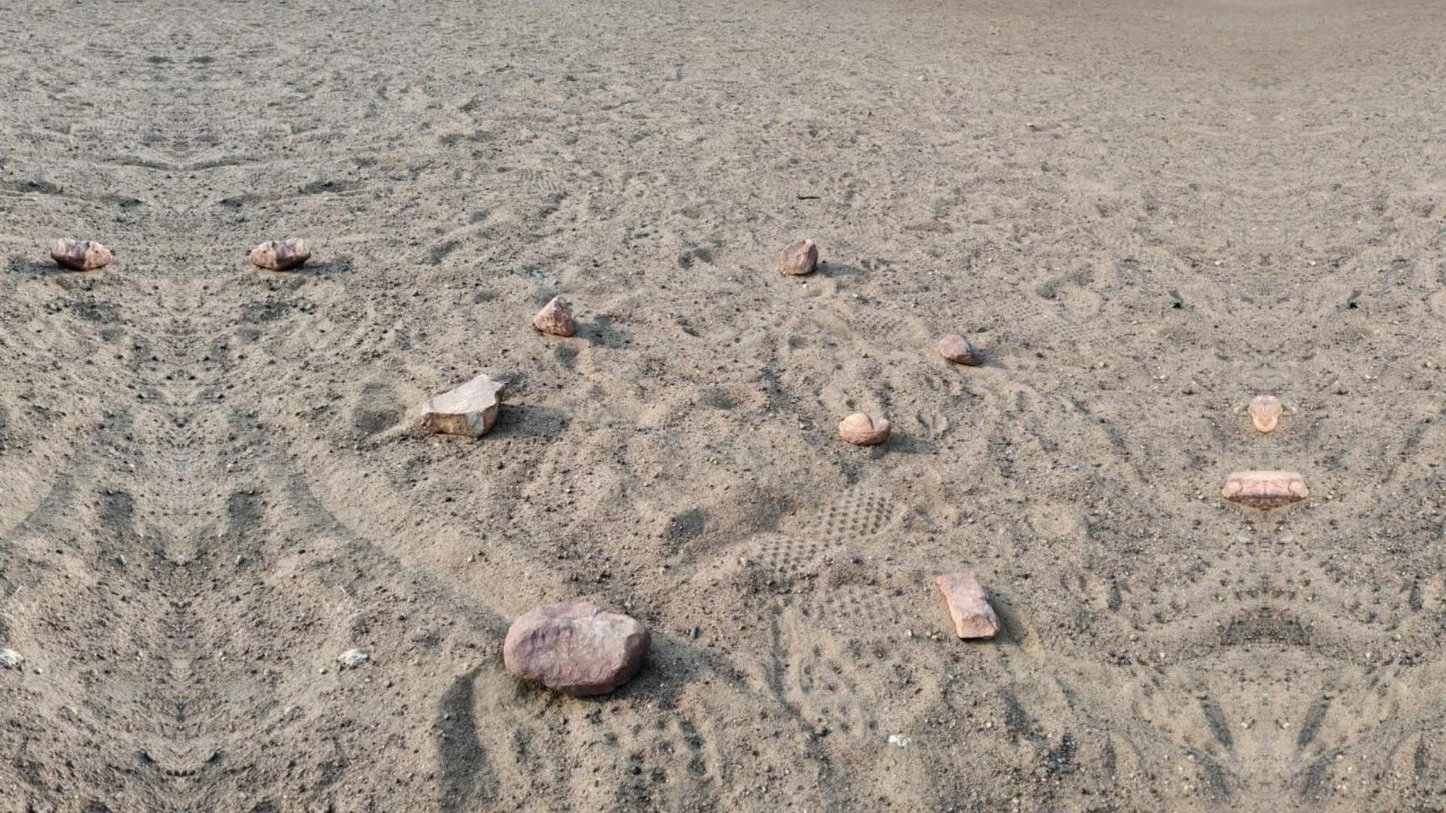rock: (504, 601, 650, 696), (420, 375, 504, 437), (933, 572, 1000, 638), (249, 238, 310, 270), (51, 238, 112, 270), (532, 296, 575, 336), (838, 412, 890, 445), (778, 238, 817, 276), (1266, 471, 1308, 505), (938, 334, 979, 365), (1221, 471, 1255, 500), (1248, 396, 1268, 431), (1262, 396, 1281, 431)
